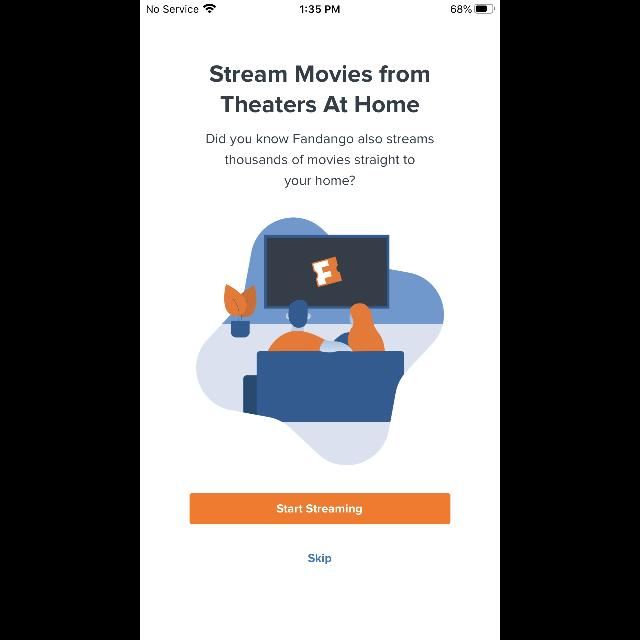image: (196, 218, 444, 464)
text: (206, 134, 434, 188), (210, 66, 430, 112), (308, 554, 332, 564)
textbutton: (190, 494, 450, 524)
uppertaskbar: (140, 0, 500, 14)
